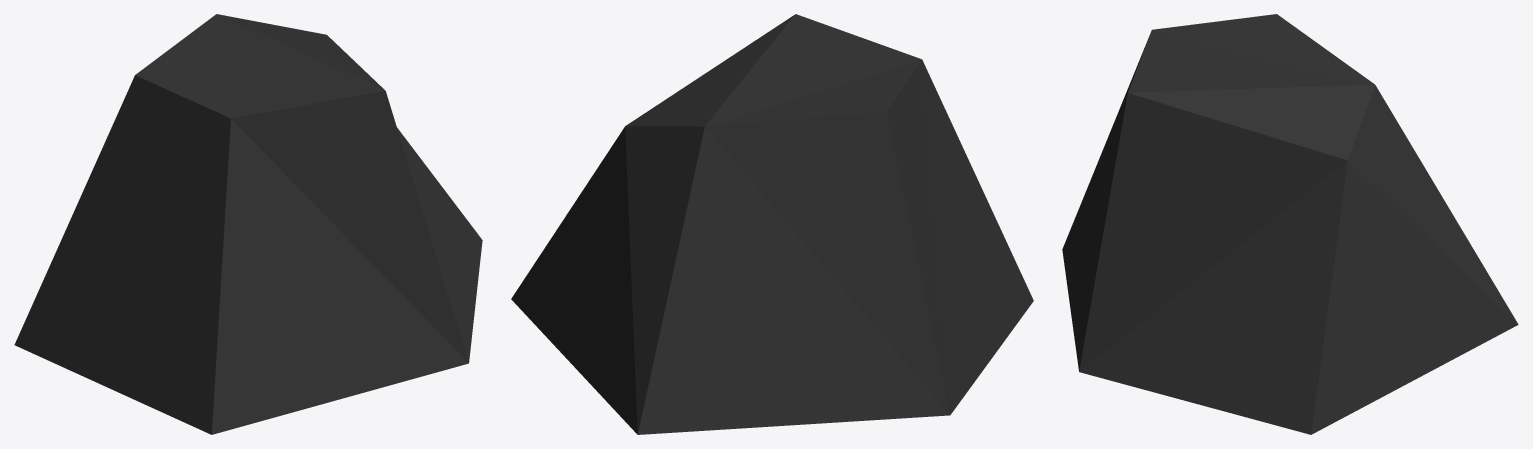
Rendered from CoalB.fbx.
3 renders of one model, left to right at view 1: azimuth 30°, elevation 25°; view 2: azimuth 150°, elevation 25°; view 3: azimuth 270°, elevation 25°, orthographic. The views are drawn at different scales.
Visible parts, largest first — view 1: CoalB; view 2: CoalB; view 3: CoalB.
Part boxes in pixels (<box>): CoalB: <box>14,14,482,434</box>; CoalB: <box>511,14,1033,434</box>; CoalB: <box>1062,14,1518,434</box>.
Size of the model in its own units: 51.04 by 28.48 by 46.6.
